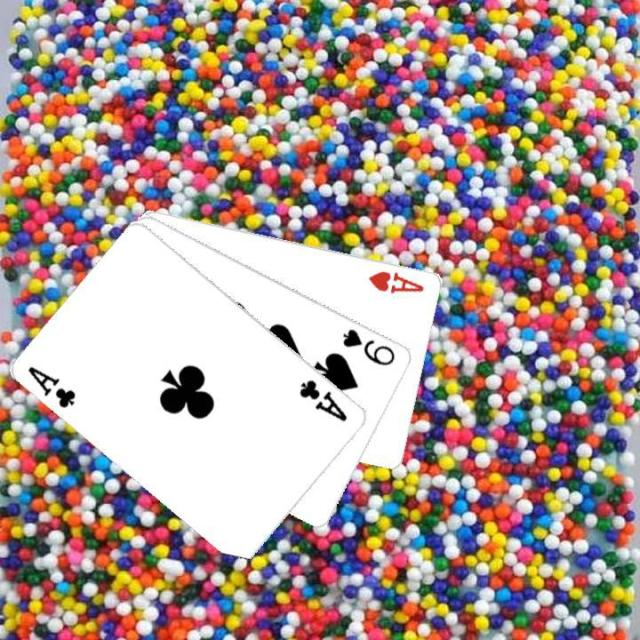9S: (339, 325, 397, 367)
AC: (295, 375, 349, 424), (24, 362, 78, 411)
AH: (365, 266, 427, 295)
